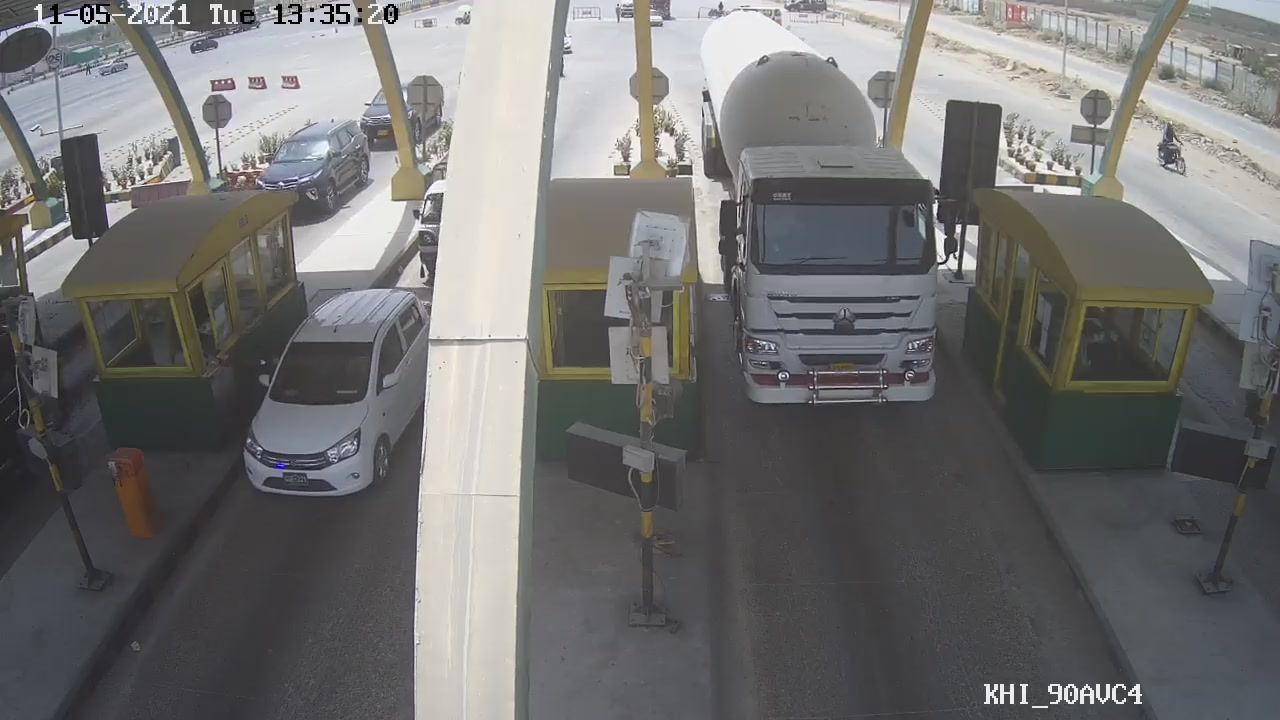F6: (688, 16, 957, 409)
